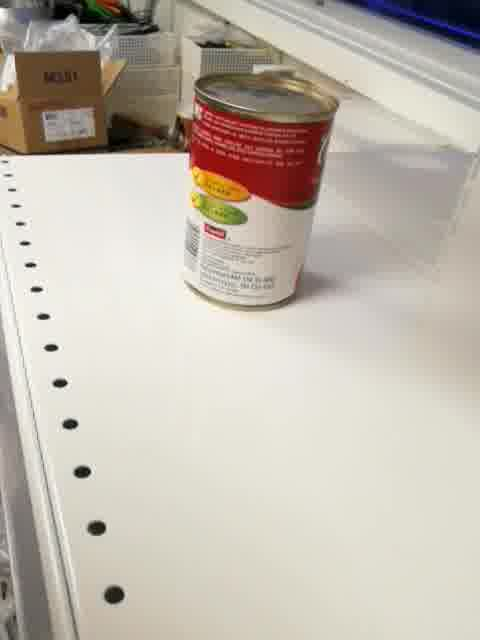tomatosoup: (182, 72, 343, 315)
